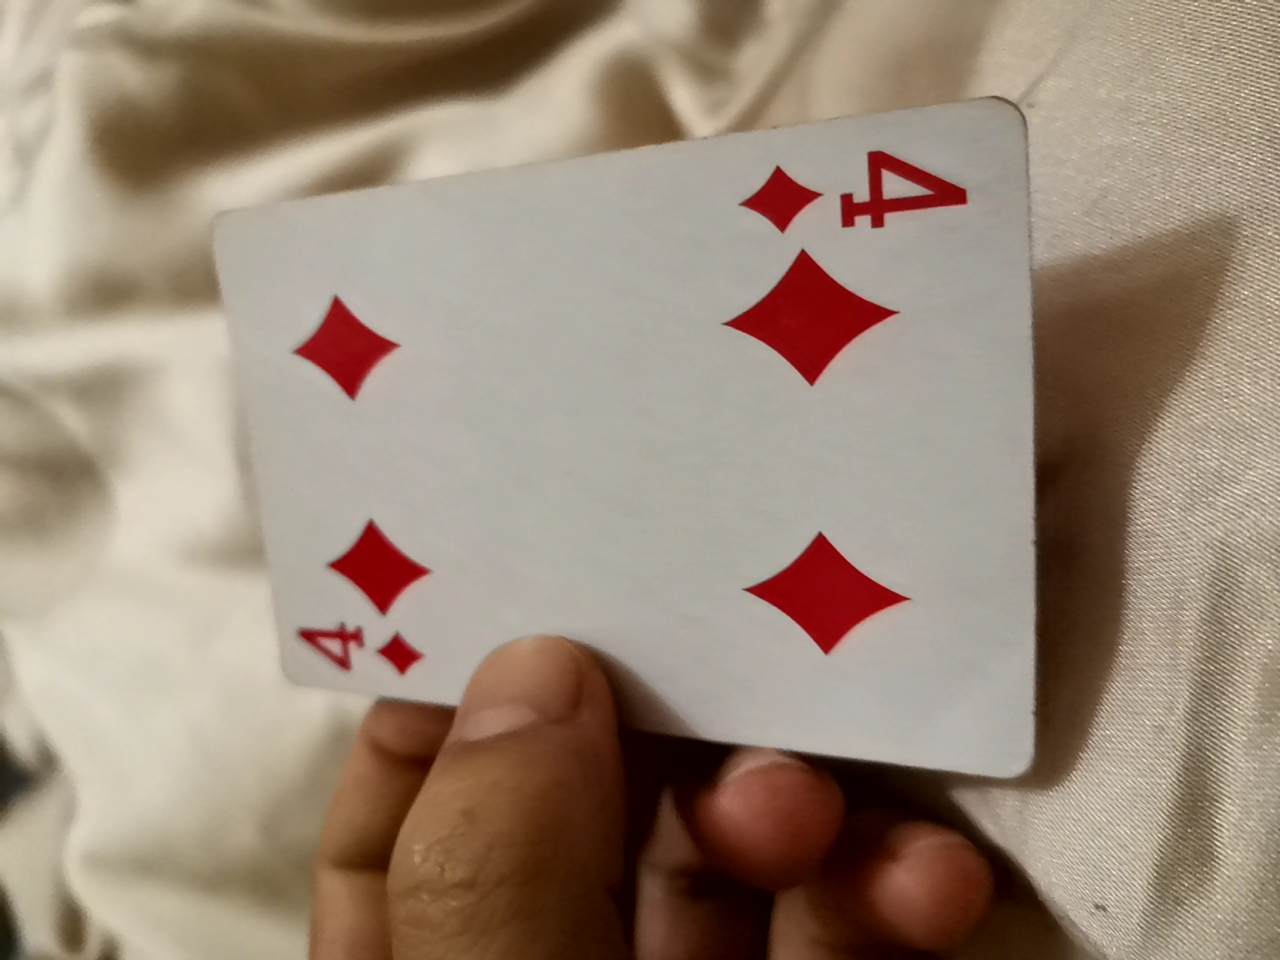fk 4: (172, 82, 1072, 781)
